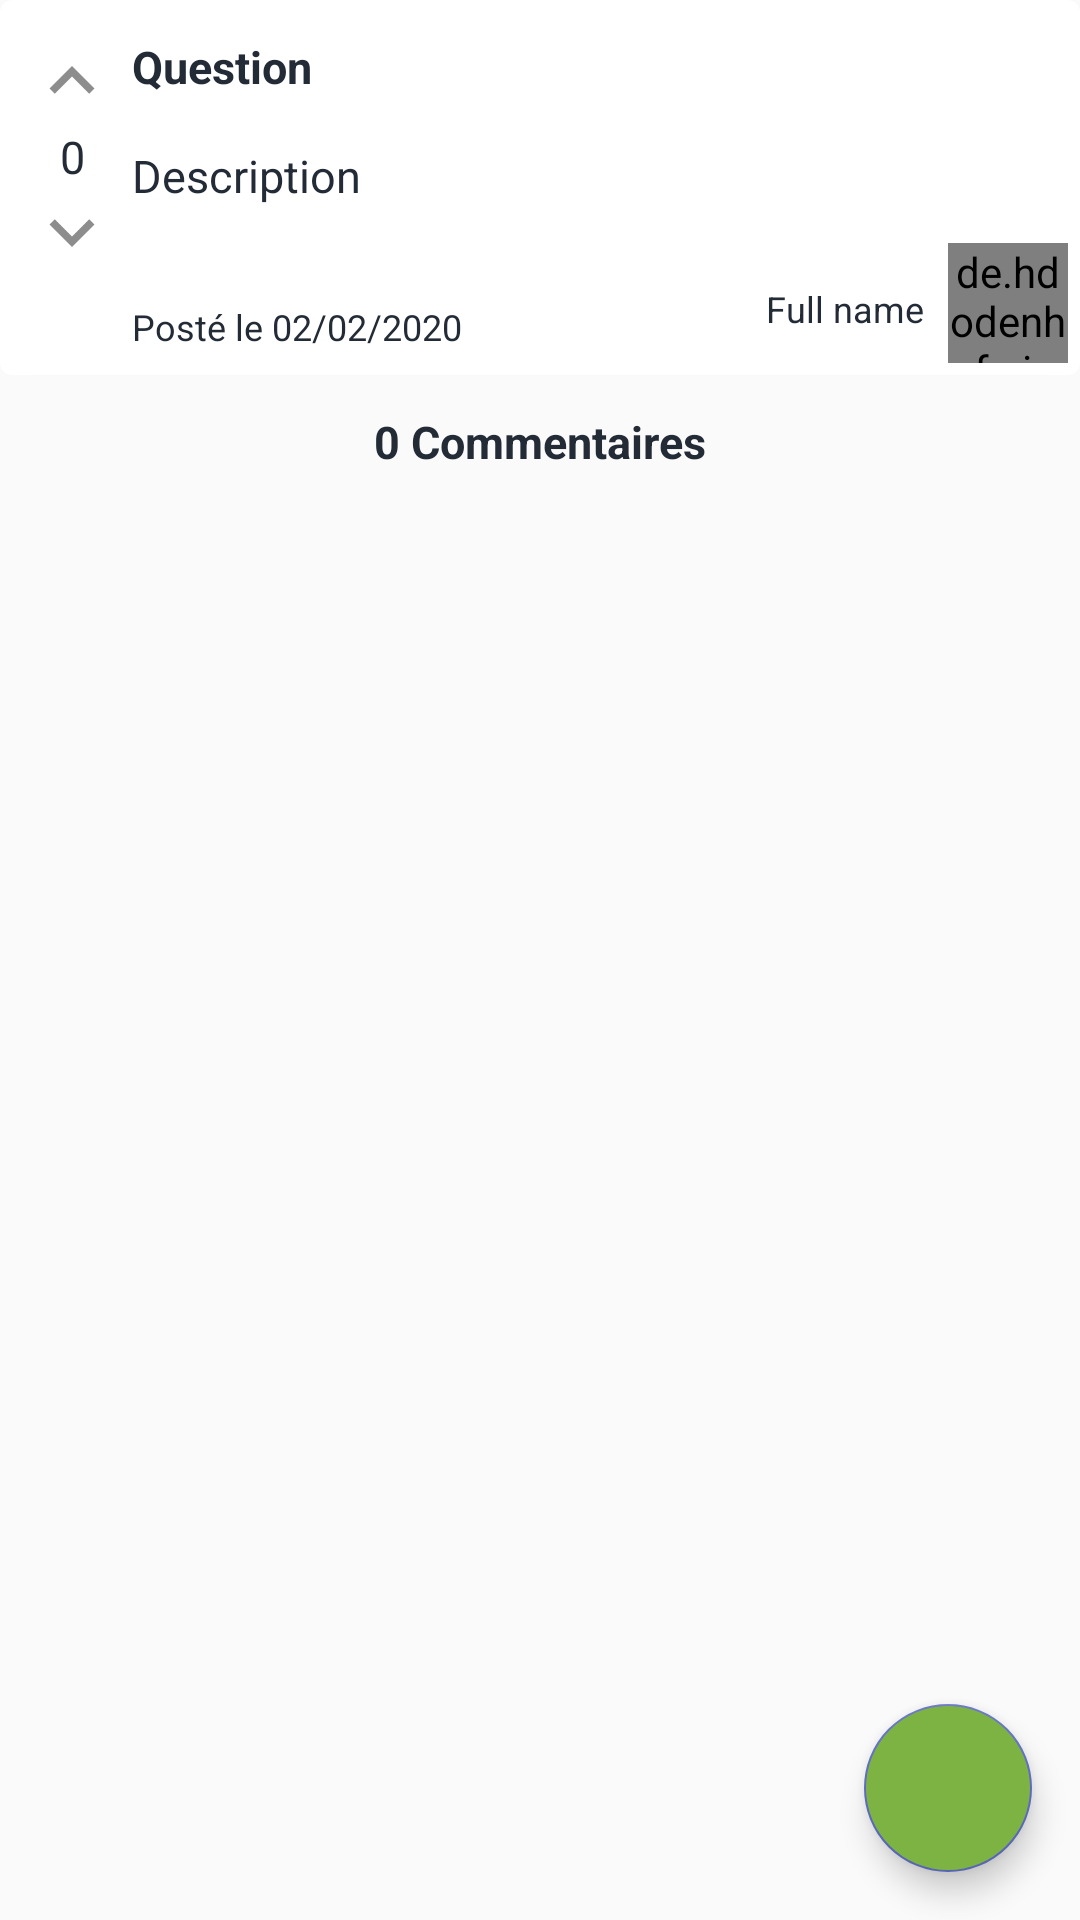

Screen size 1080px x 1920px. Icon name, then its center in pixels as (x=x, y=y):
keyboard arrow down: (x=72, y=233)
keyboard arrow up: (x=72, y=80)
